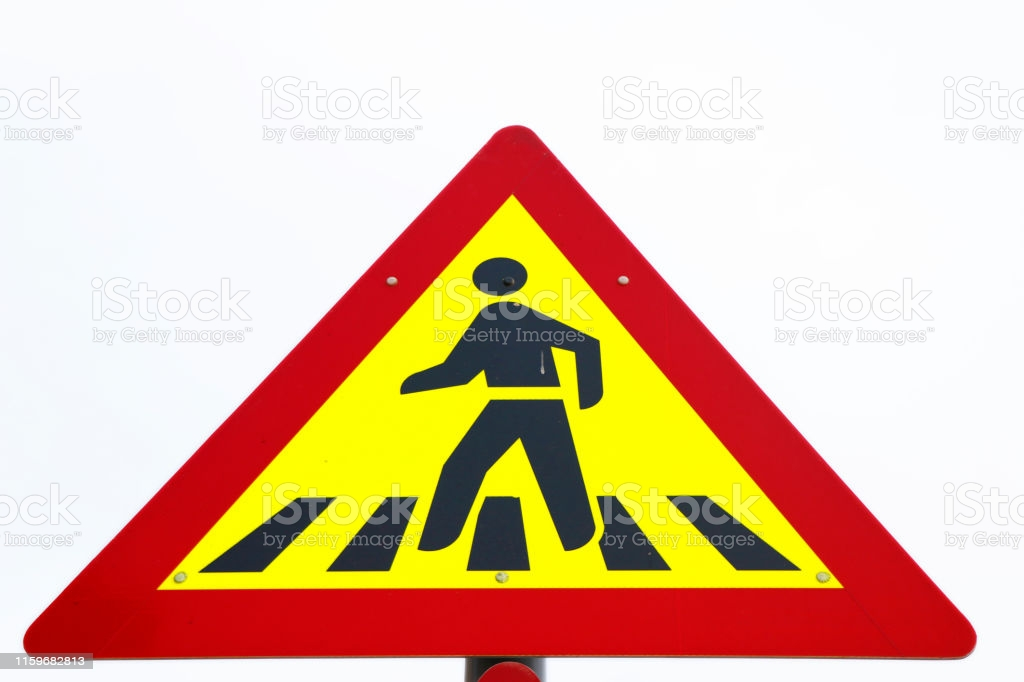pedestrian: (148, 167, 888, 682)
